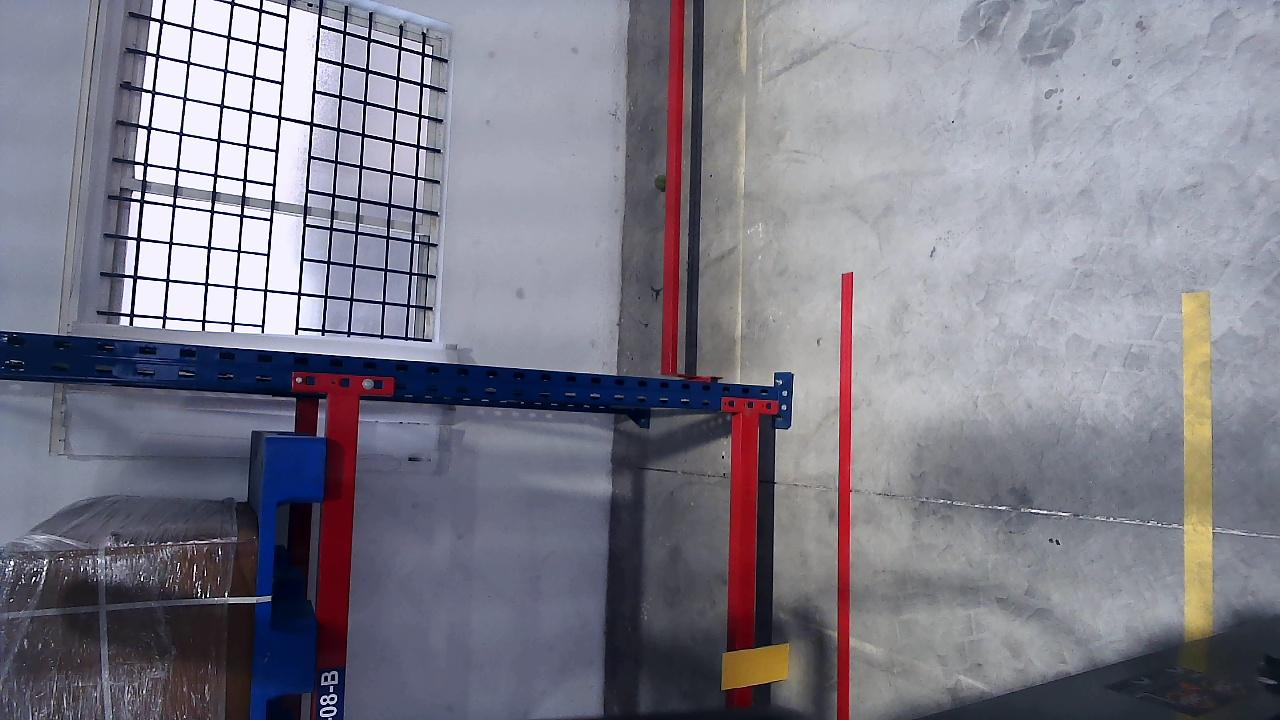h_rack: (309, 394, 363, 718), (729, 411, 763, 711)
orange_strip: (720, 642, 789, 689)
red_line: (835, 273, 854, 718)
small_pallet: (247, 437, 328, 719)
yellow_line: (1182, 298, 1215, 635)
